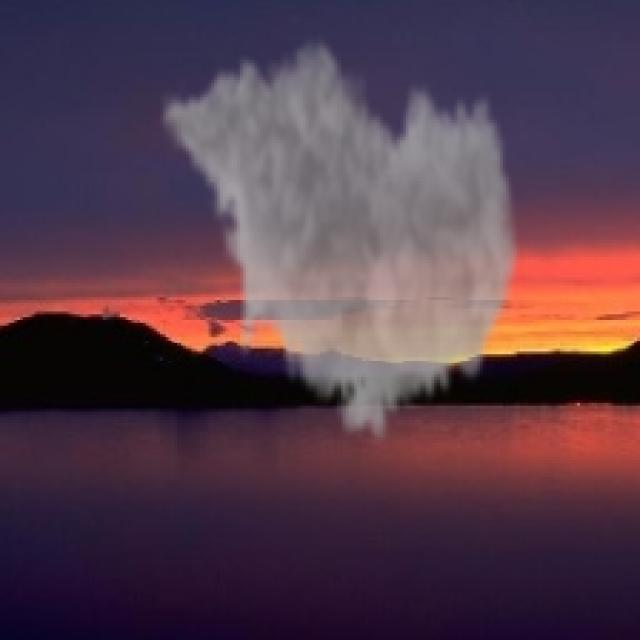Smoke: (157, 29, 523, 452)
